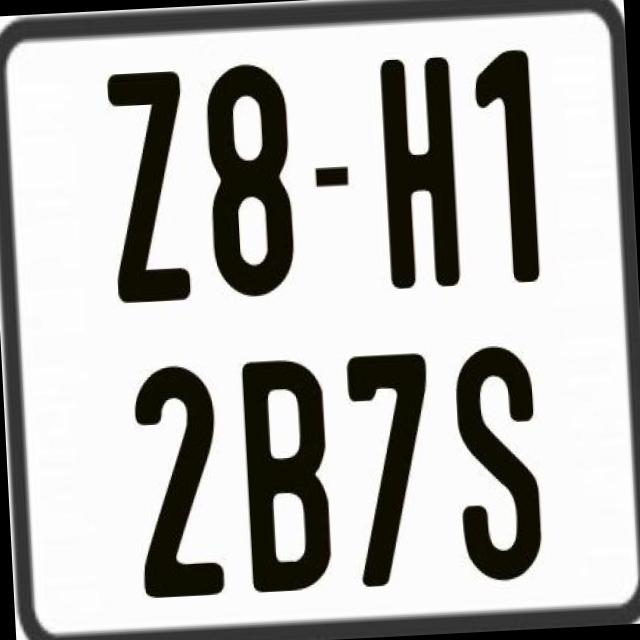1: (469, 46, 539, 289)
2: (133, 362, 226, 596)
7: (342, 348, 440, 583)
8: (200, 59, 298, 303)
B: (238, 357, 332, 591)
H: (376, 54, 458, 288)
S: (454, 342, 546, 582)
Z: (105, 67, 196, 302)
